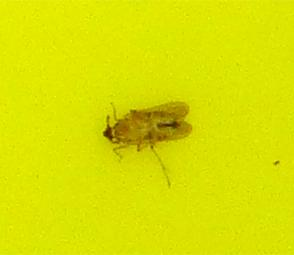Hemiptera: (100, 100, 194, 155)
